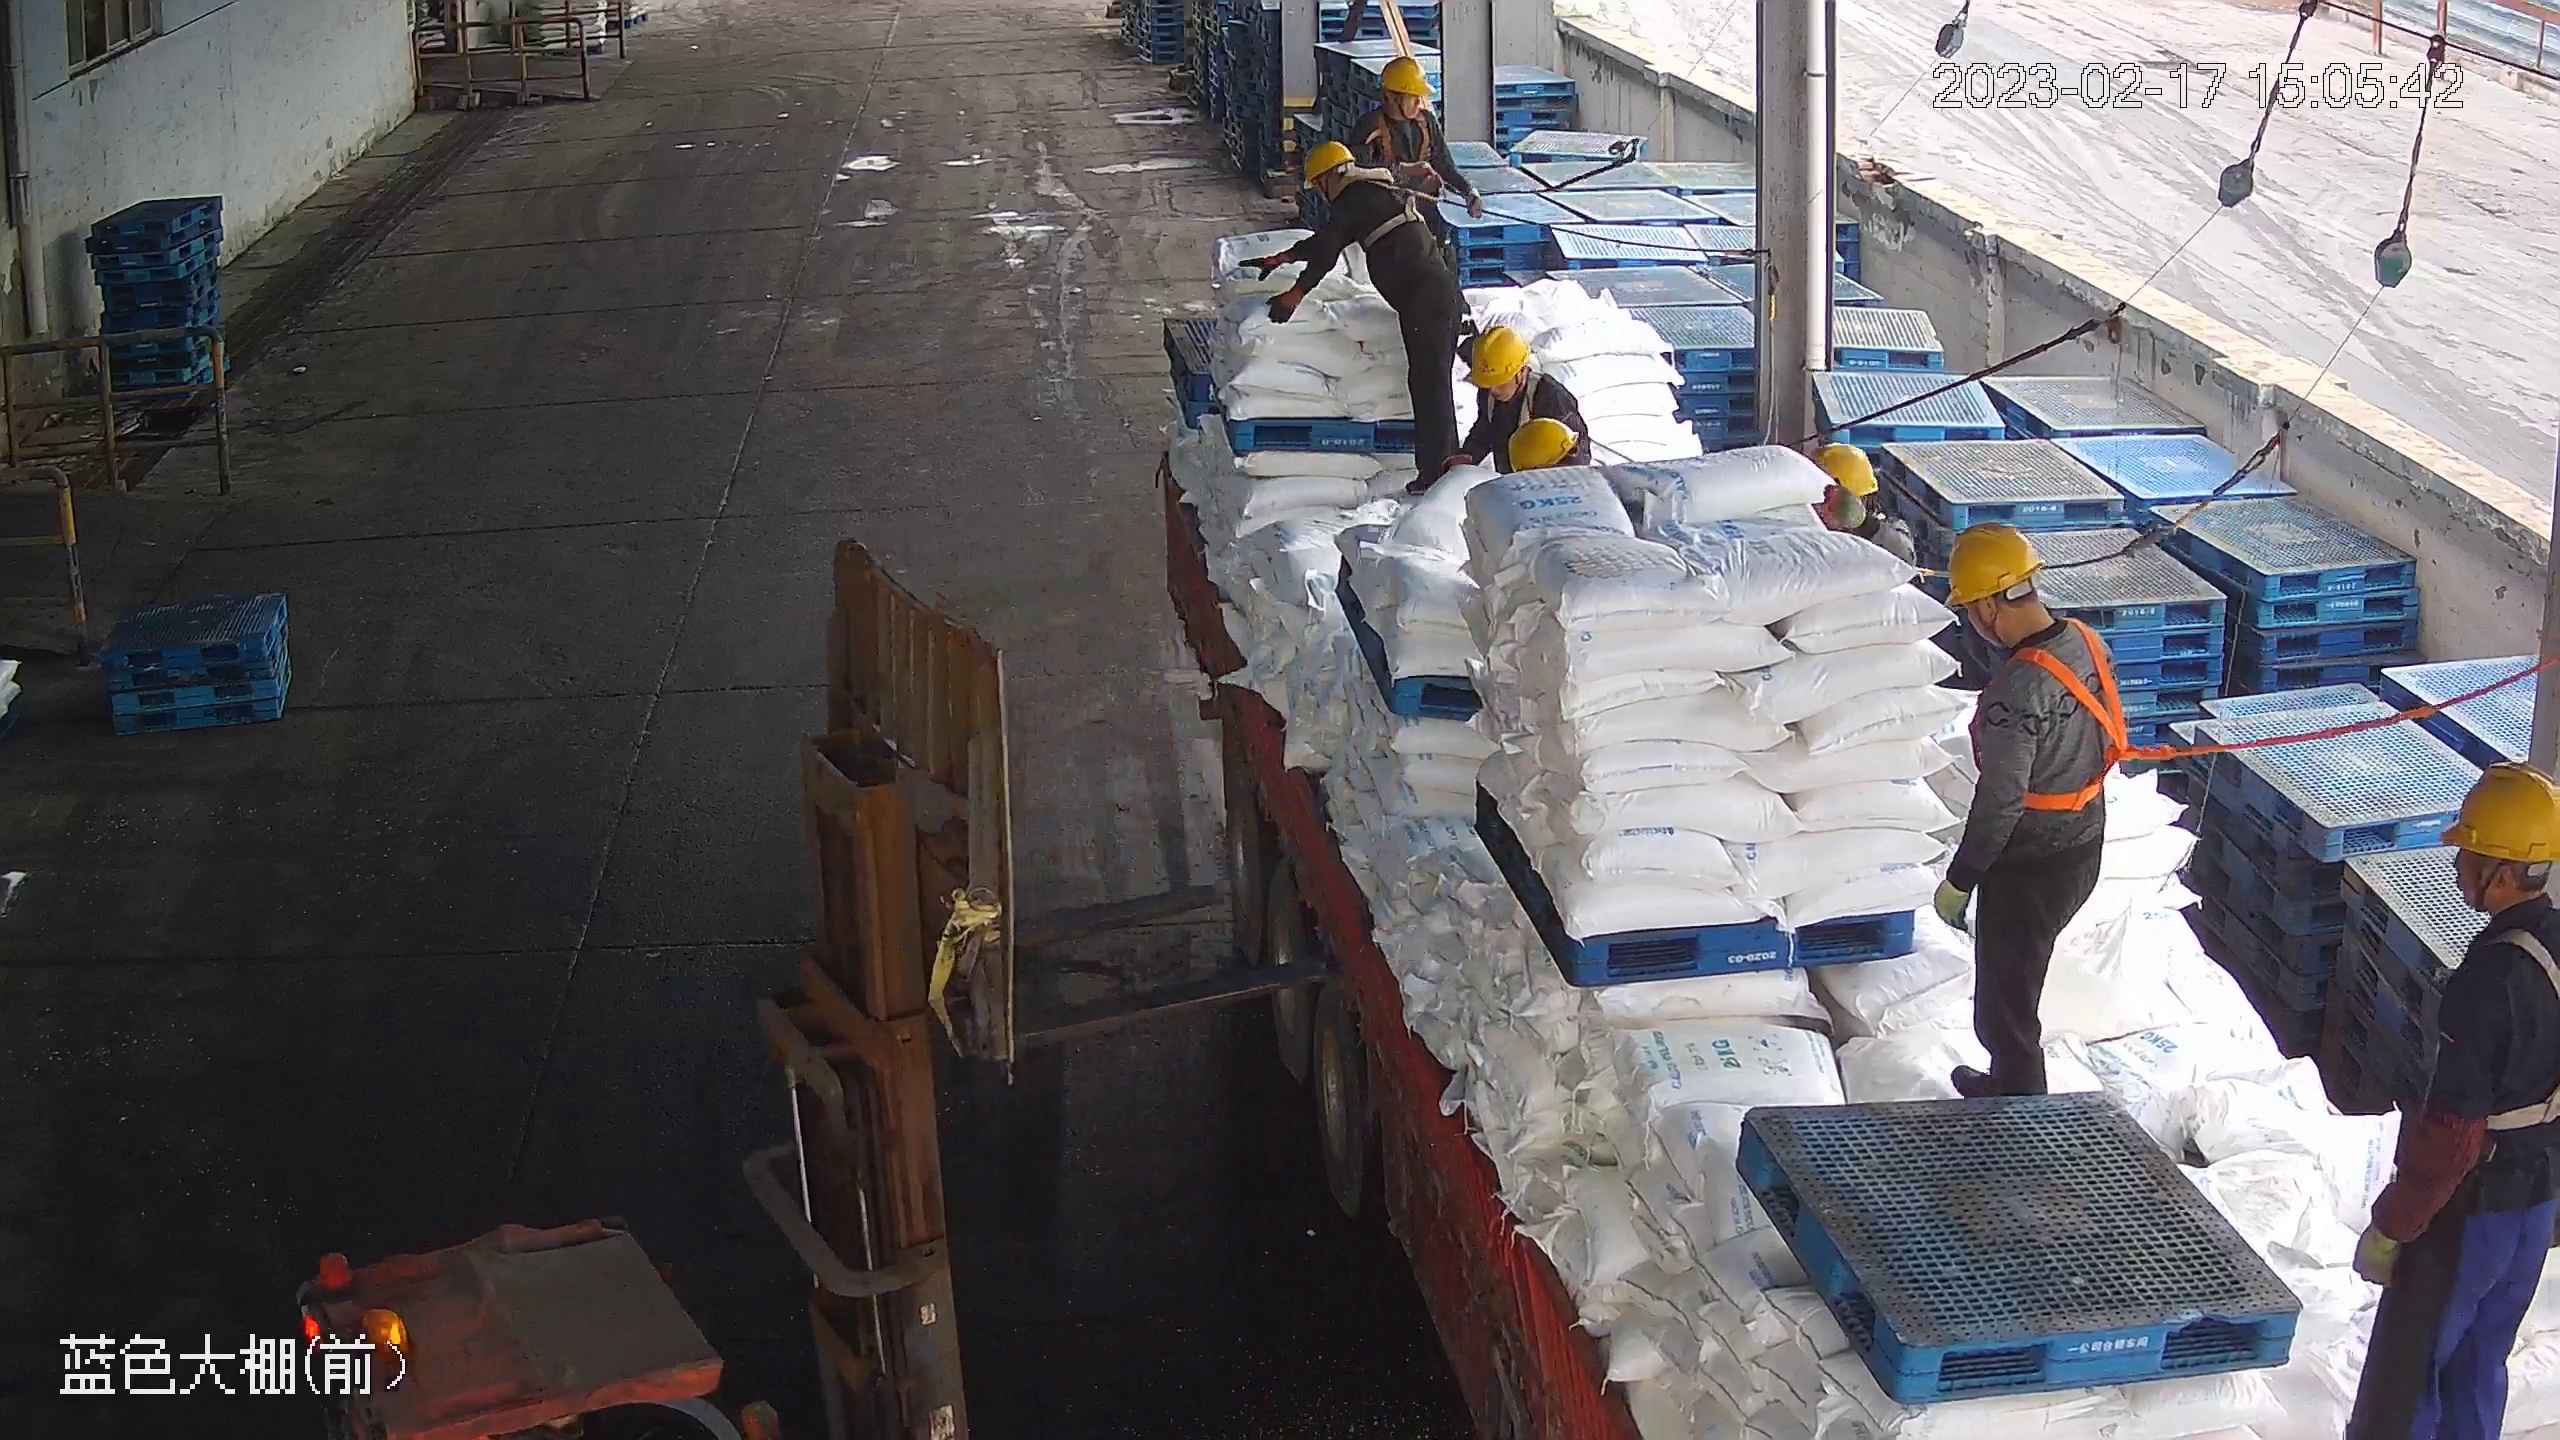belt: (1990, 620, 2162, 816), (2441, 907, 2560, 1138), (1348, 170, 1442, 256), (1489, 375, 1567, 442), (1372, 94, 1435, 167)
head: (1936, 519, 2126, 727), (2428, 757, 2558, 1030), (1460, 320, 1580, 420), (1299, 138, 1413, 233), (1358, 52, 1449, 143)
helmet: (2443, 760, 2559, 866), (1940, 519, 2042, 609), (1814, 438, 1877, 506), (1466, 322, 1530, 389), (1507, 415, 1578, 470), (1300, 137, 1358, 186), (1375, 51, 1430, 96)
people: (2351, 757, 2560, 1431), (1921, 515, 2119, 1099), (1250, 141, 1472, 487)
truck: (1167, 382, 2549, 1433)
